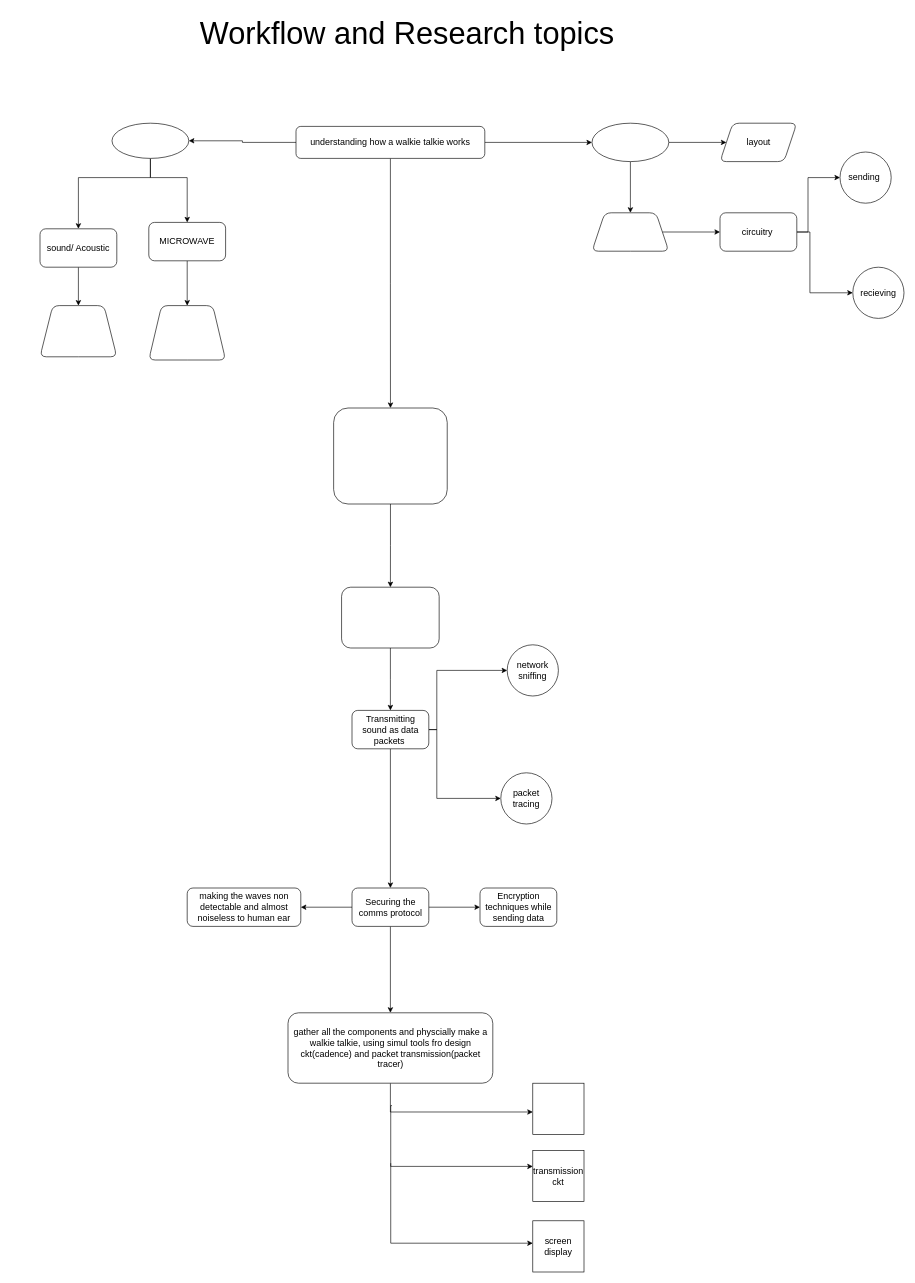
The diagram is 915 pixels wide and 1283 high, and some of its shapes have lost their labels. Each missing label, with the centre of its shape:
"CONVERT SOUND TO IMAGE(done using pseudo hilbert curve)" belongs at (x=390, y=617).
"device components" belongs at (x=630, y=142).
"electrcial ckt" belongs at (x=558, y=1108).
"integer - mod/demod, and transmitting as sound" belongs at (x=78, y=331).
"RF TECHNIQULES LIKE MOD/DEMOD" belongs at (x=187, y=332).
"transmission" belongs at (x=150, y=140).
"understanding how to enable image transmission using walkie talkie over RF" belongs at (x=390, y=455).
"working" belongs at (x=630, y=231).
